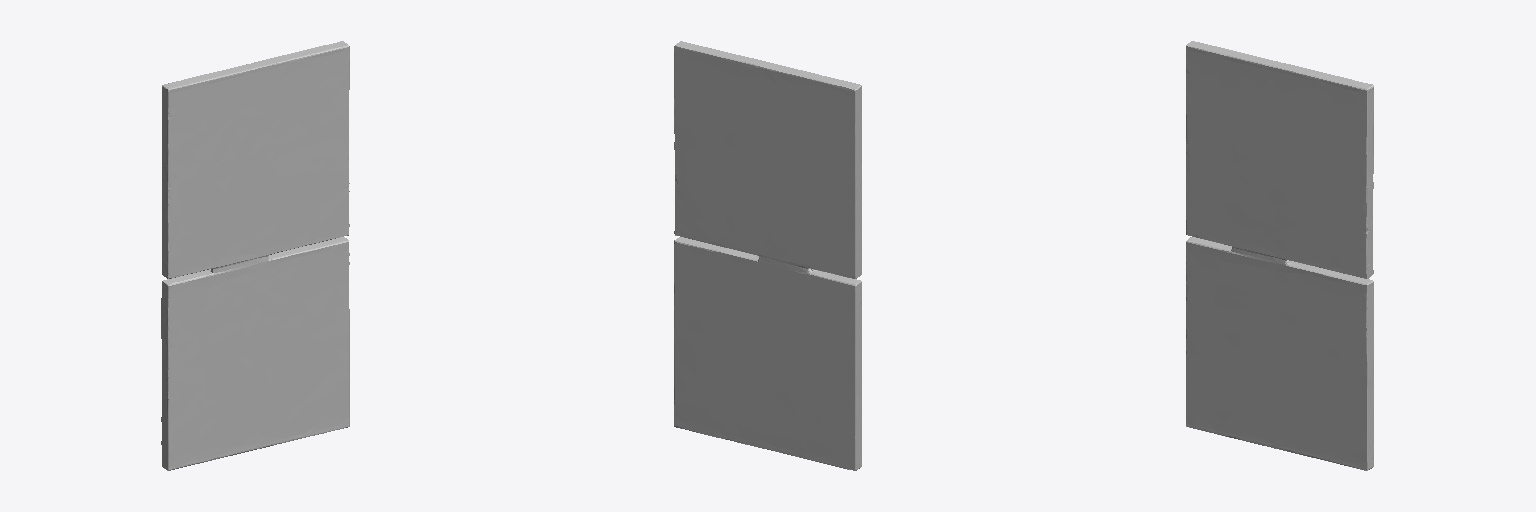
The model's file is Colorful_Geometry_1102172936_texture.obj.
3 renders of one model, left to right at view 1: azimuth 30°, elevation 25°; view 2: azimuth 150°, elevation 25°; view 3: azimuth 330°, elevation 25°, orthographic.
Visible parts, largest first — view 1: Colorful_Geometry_[number redacted]_texture; view 2: Colorful_Geometry_[number redacted]_texture; view 3: Colorful_Geometry_[number redacted]_texture.
Boxes of the visible parts, x1,y1,x2,y2 form: Colorful_Geometry_[number redacted]_texture: [161, 41, 349, 470]; Colorful_Geometry_[number redacted]_texture: [674, 41, 861, 470]; Colorful_Geometry_[number redacted]_texture: [1186, 41, 1373, 470].
Bounding box in the file's own units: 1 × 2.01 × 0.0656.